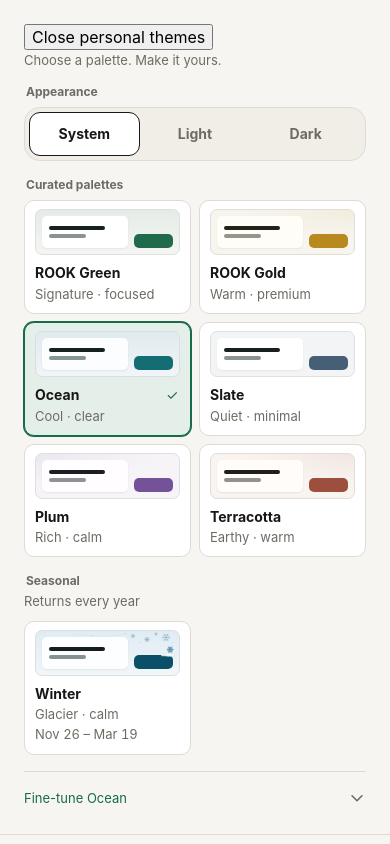
Test: appearance changes preserve all family shades and returning to baseline disables Apply
The width and height of the screenshot is (390, 844).
Click the radio button labelled "Light": [195, 134] box [140, 112, 250, 156]
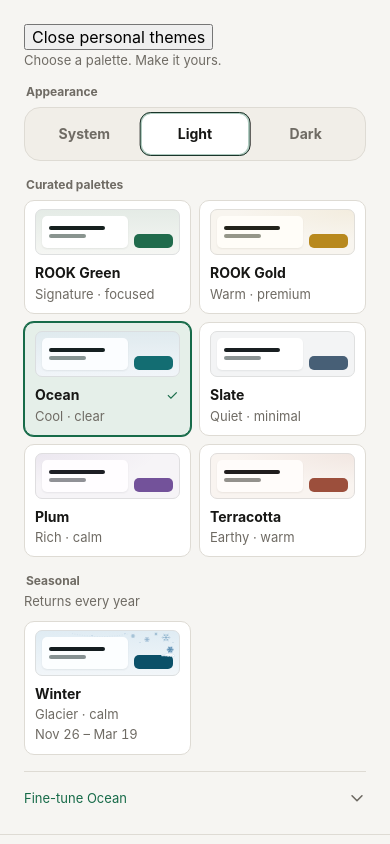
Click the radio button labelled "Dark": [306, 134] box [250, 112, 361, 156]
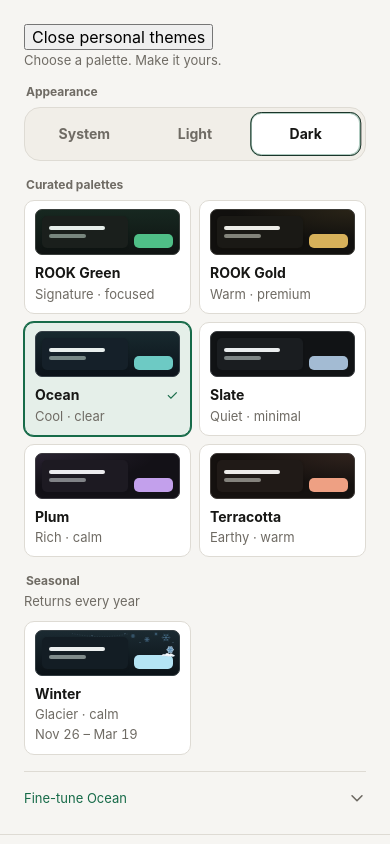
Click the radio button labelled "System": [84, 134] box [29, 112, 140, 156]
(page scrolled)
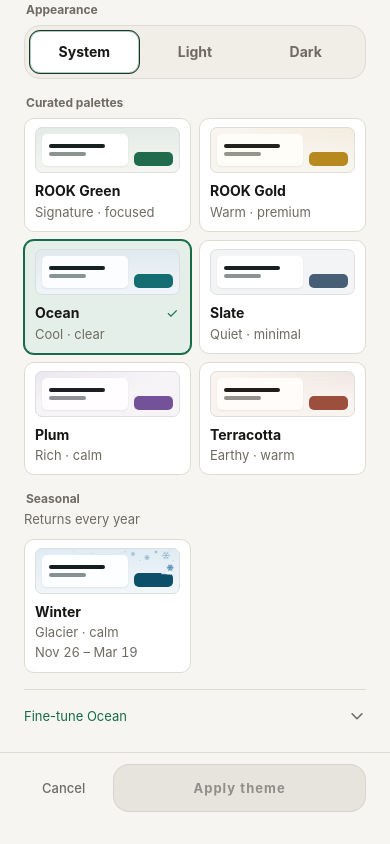
expect the button "Apply theme" is disabled: met, box [113, 764, 366, 812]
